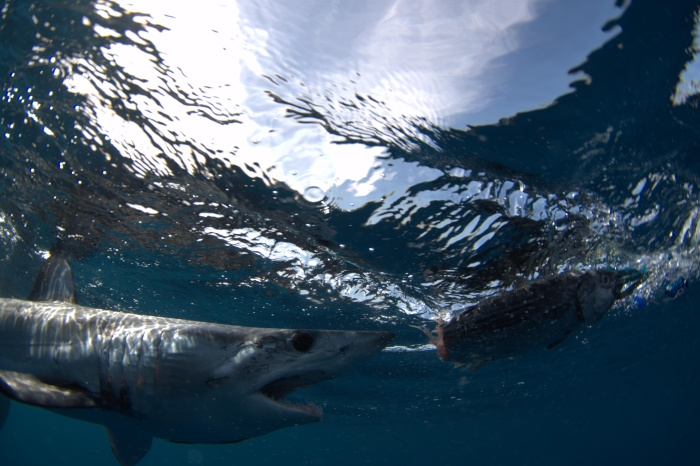Mako: (1, 245, 418, 464)
